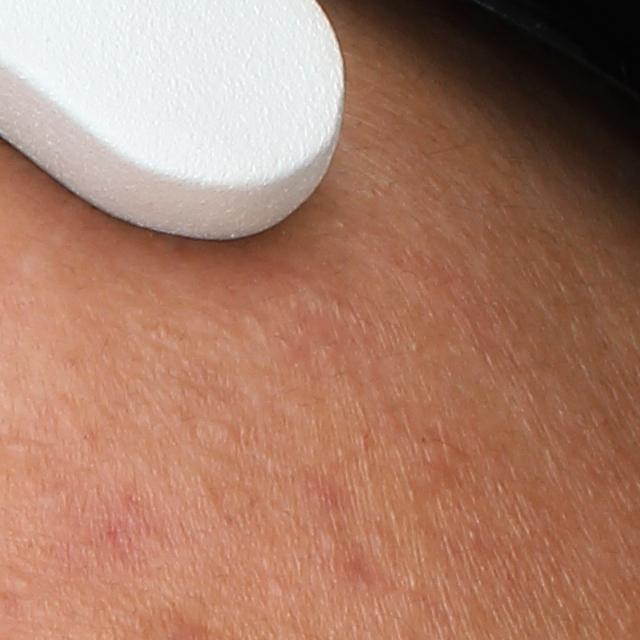comedo: (209, 418, 243, 444), (320, 529, 343, 556)
